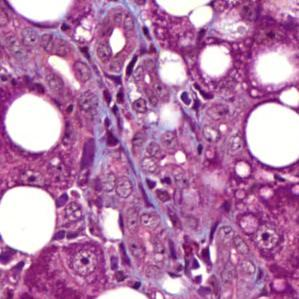steatosis: (2, 92, 65, 154)
